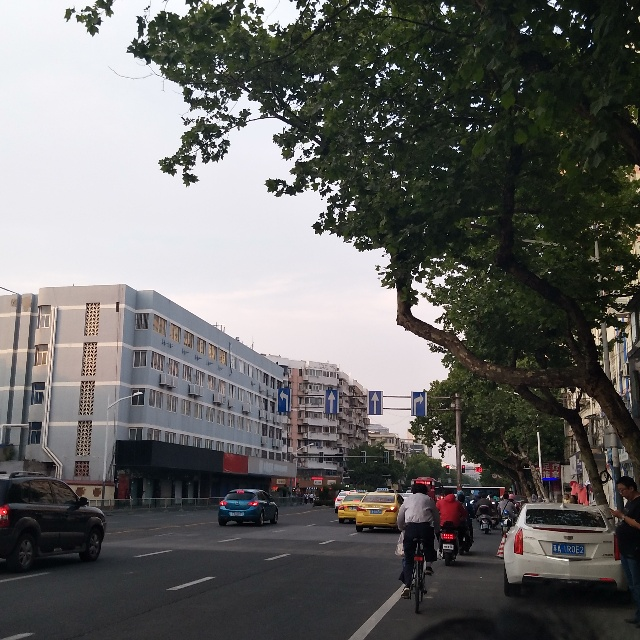left: (276, 387, 291, 411)
right: (411, 392, 427, 416)
straight: (367, 391, 383, 415), (324, 390, 339, 414)
